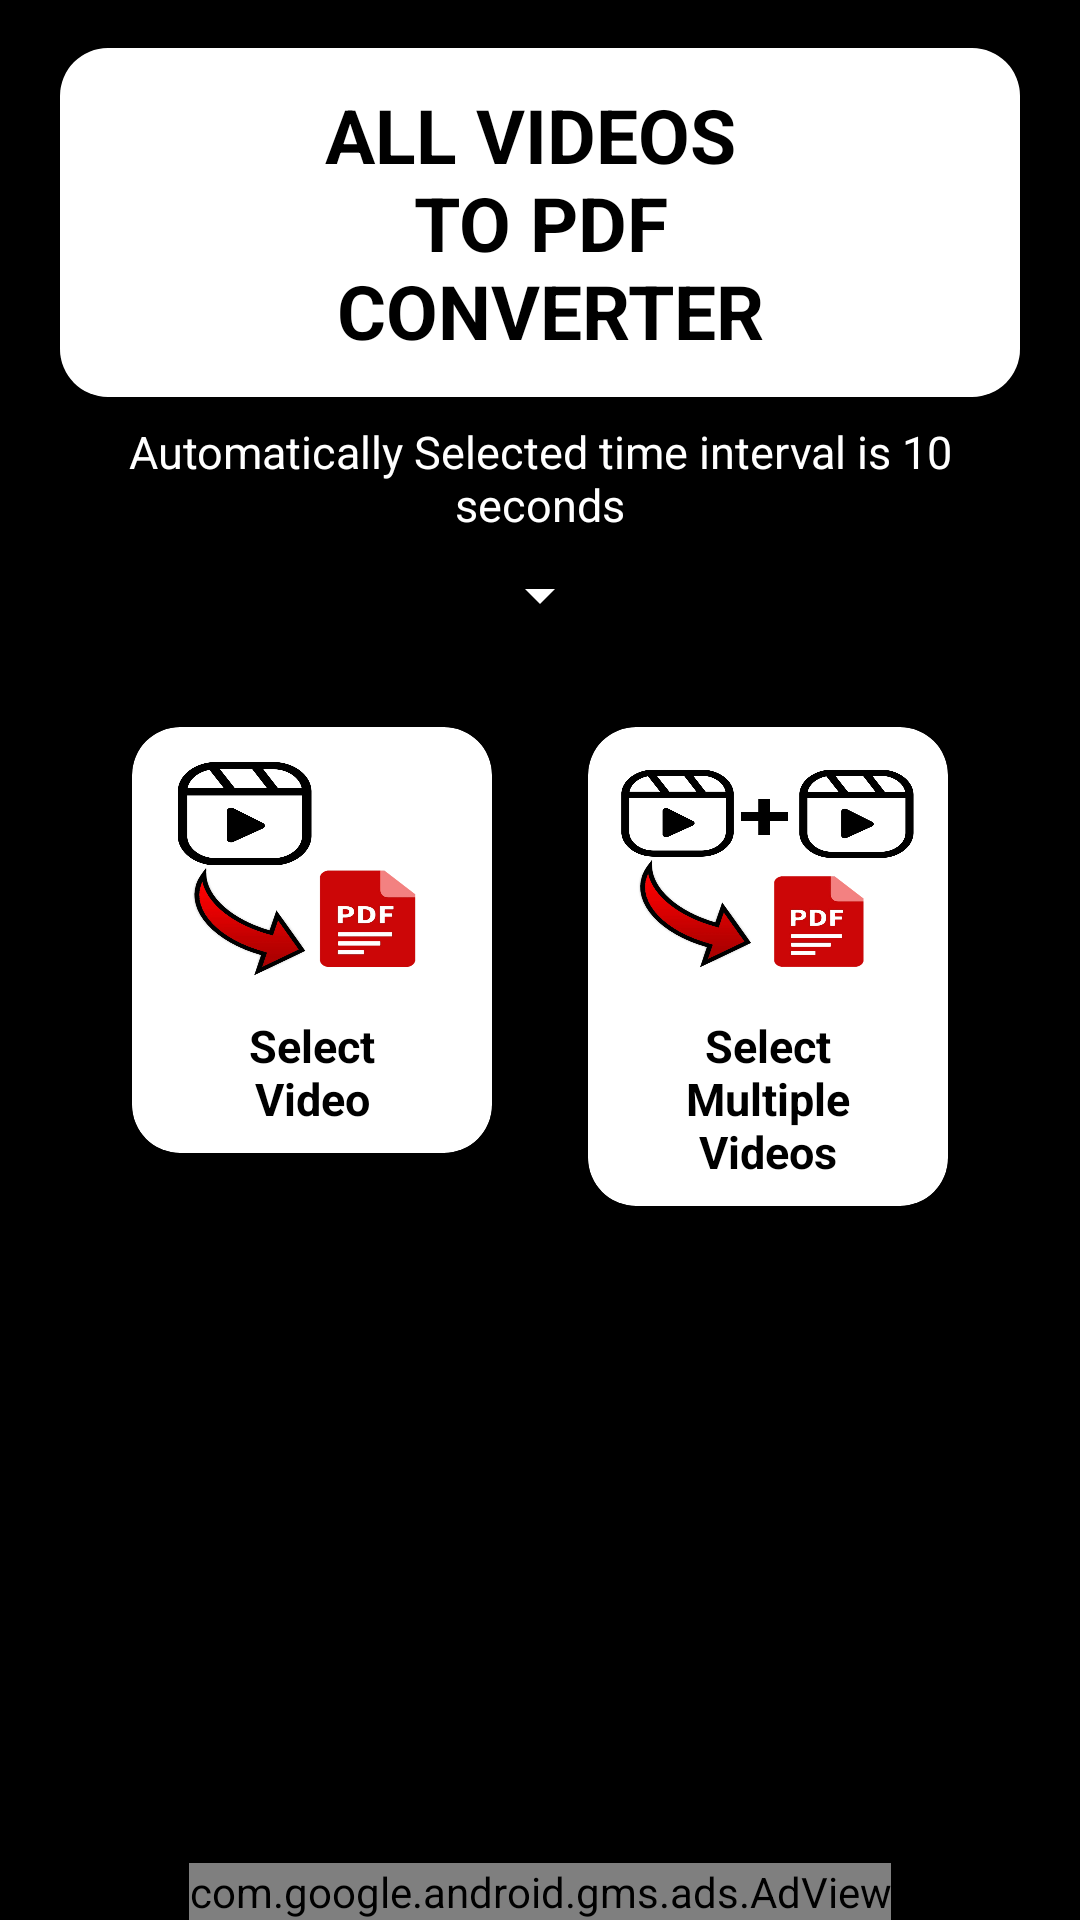

Screen size 1080 × 1920. Icon name, then its box in pixels as BBox(x1, y1, x2, y2):
single: BBox(178, 762, 416, 975)
